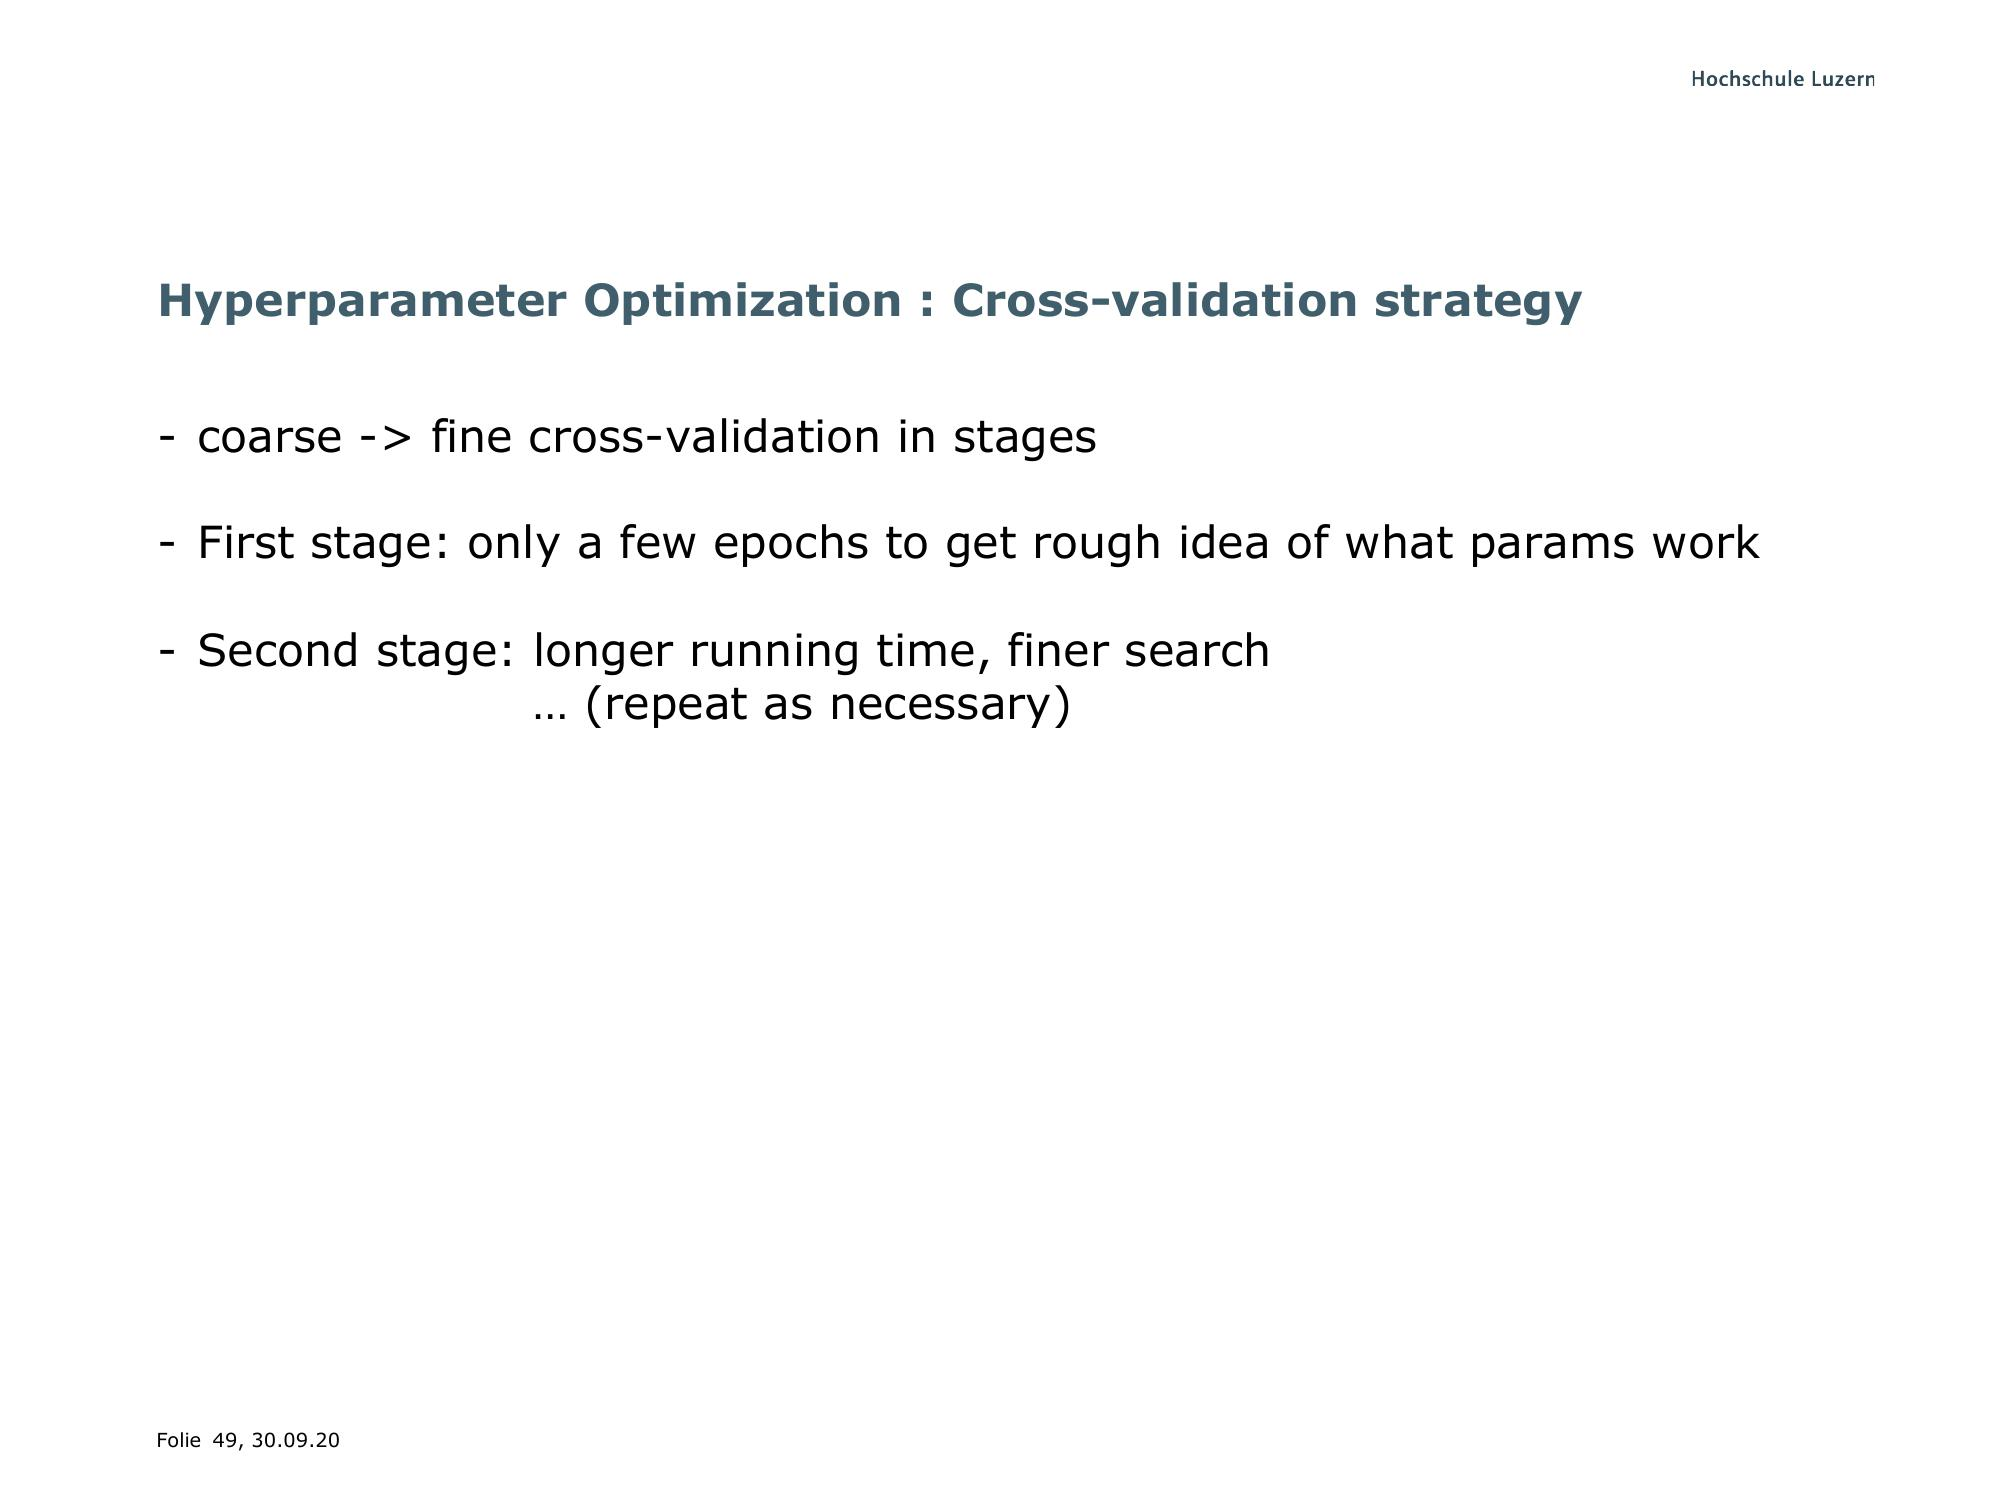Title: (154, 258, 1598, 350)
